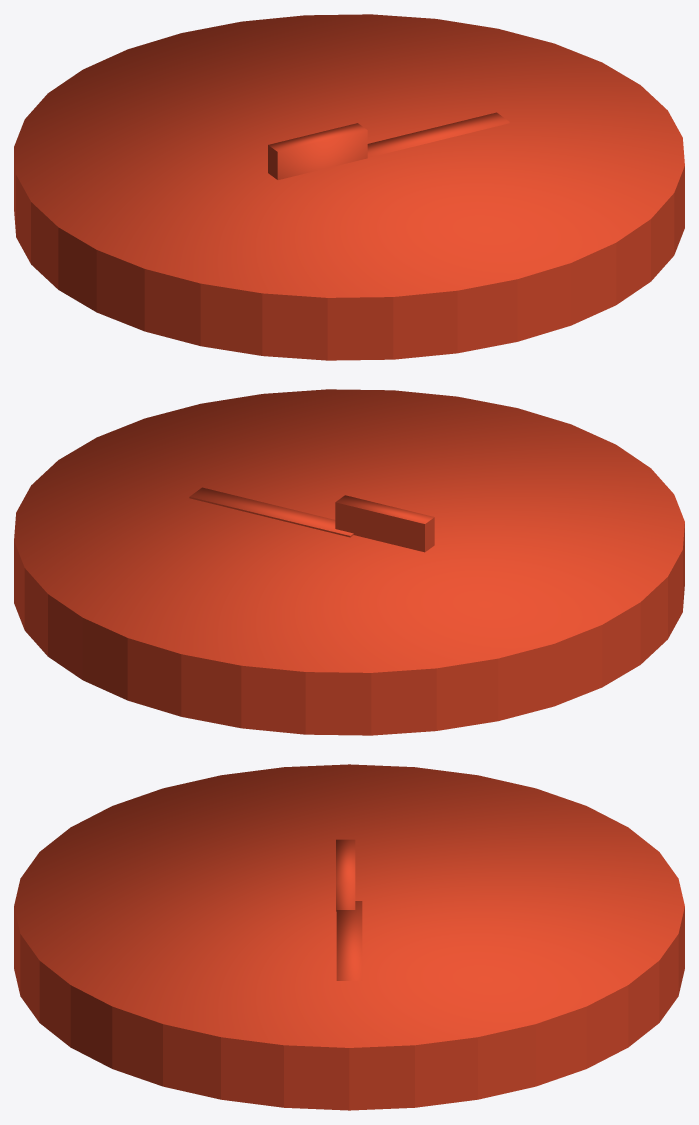
The model's file is ClockTimePlus.fbx.
The picture shows the model from 3 angles, top to bottom: view 1: azimuth 30°, elevation 25°; view 2: azimuth 150°, elevation 25°; view 3: azimuth 270°, elevation 25°; orthographic projection.
Parts seen in each view (by area): view 1: clocktime+; view 2: clocktime+; view 3: clocktime+.
Boxes of the visible parts, bbox=[...] form: clocktime+: bbox=[14, 14, 684, 360]; clocktime+: bbox=[14, 389, 684, 735]; clocktime+: bbox=[14, 764, 684, 1110].
Size of the model in its own units: 15.74 by 2.39 by 15.74.
